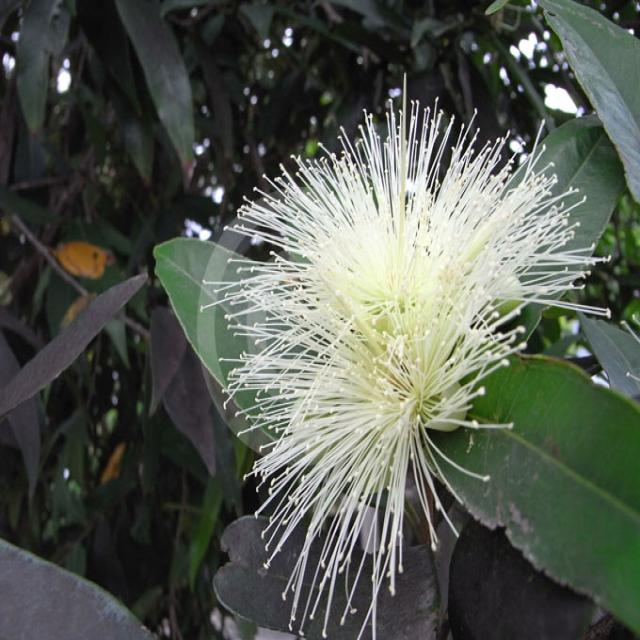Medicinal-Rose Apple: (149, 33, 640, 639)
